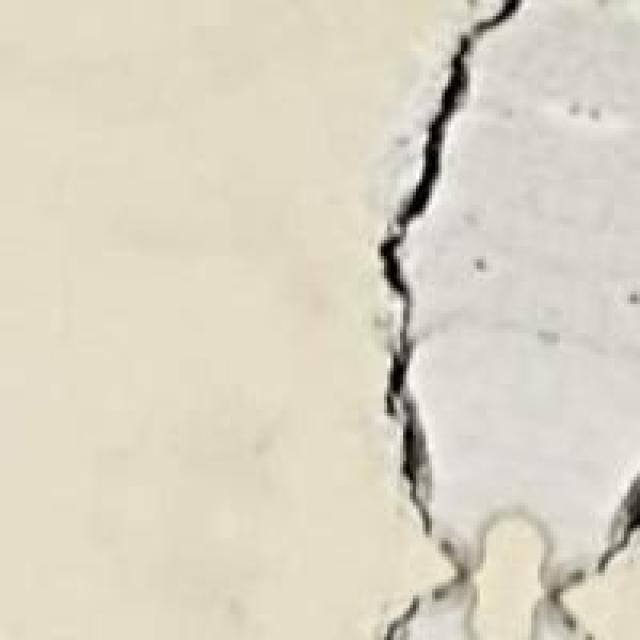Crack: (362, 0, 636, 637)
